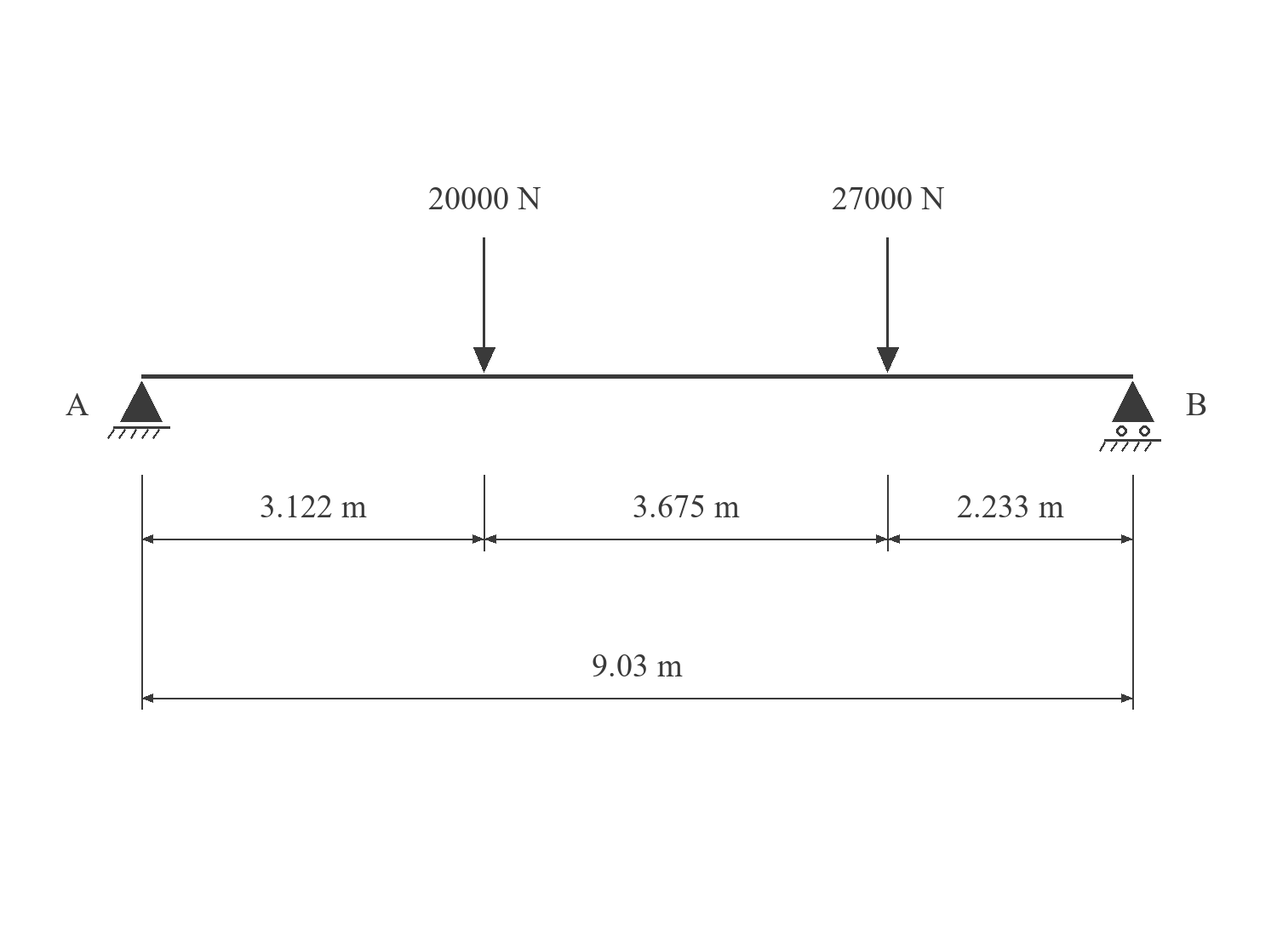pin_support: (107, 381, 170, 439)
point_load: (473, 237, 495, 373), (877, 237, 899, 373)
roller_support: (1099, 381, 1161, 452)
